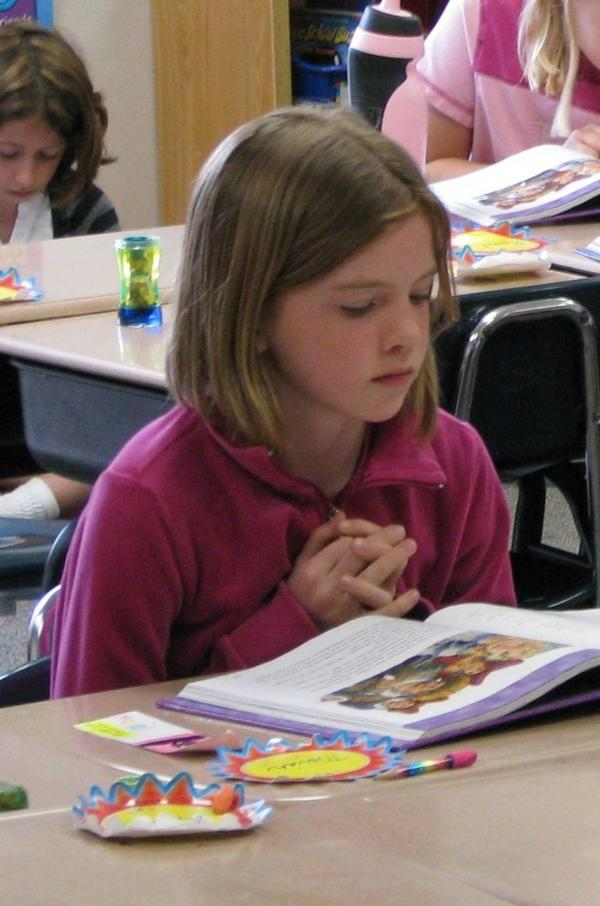person: (52, 111, 517, 707)
